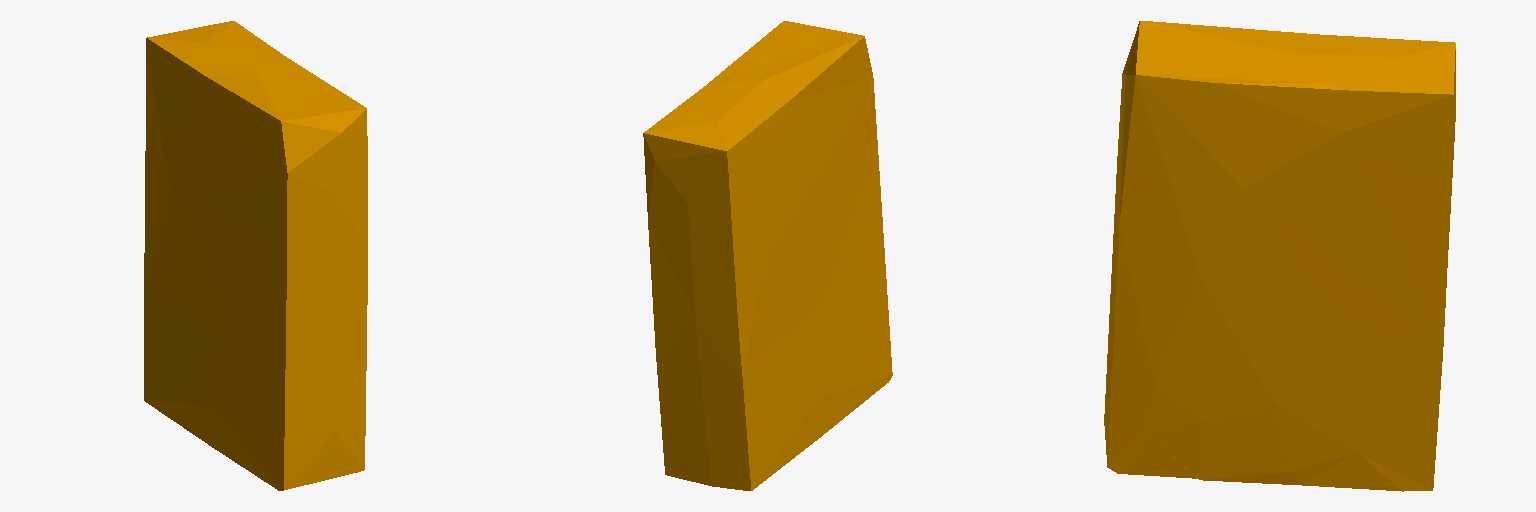
robot.urdf — InstantTomatoSoup_800_tex:
<?xml version="1.0"?>
<robot name="InstantTomatoSoup_800_tex">
  <link name="base_link">
    <contact>
      <lateral_friction value="1.0"/>
      <rolling_friction value="0.0"/>
      <contact_cfm value="0.0"/>
      <contact_erp value="1.0"/>
    </contact>
    <inertial>
      <mass value="0.0248201846641"/>
      <inertia ixx="1" ixy="0" ixz="0" iyy="1" iyz="0" izz="1"/>
    </inertial>
    <visual>
      <geometry>
        <mesh filename="InstantTomatoSoup_800_tex_visual.obj"/>
      </geometry>
    </visual>
    <collision>
      <geometry>
        <mesh filename="InstantTomatoSoup_800_tex_collision.obj"/>
      </geometry>
    </collision>
  </link>
</robot>

--- Render facts (derived) ---
The picture shows the robot from 3 angles, left to right: view 1: azimuth 30°, elevation 25°; view 2: azimuth 150°, elevation 25°; view 3: azimuth 270°, elevation 25°; orthographic projection.
Robot: InstantTomatoSoup_800_tex — 1 links, 0 joints (none); root link base_link; default pose: all joints at 0.
Links seen in each view (by area): view 1: base_link; view 2: base_link; view 3: base_link.
Link boxes in pixels (x1,y1,x2,y2): base_link: (144, 21, 367, 490); base_link: (643, 21, 892, 490); base_link: (1104, 21, 1455, 491).
Bounding box of the posed robot: 0.0172 × 0.0447 × 0.06 m (x, y, z).
1 mesh visuals loaded from 1 distinct referenced files (1 OBJ).